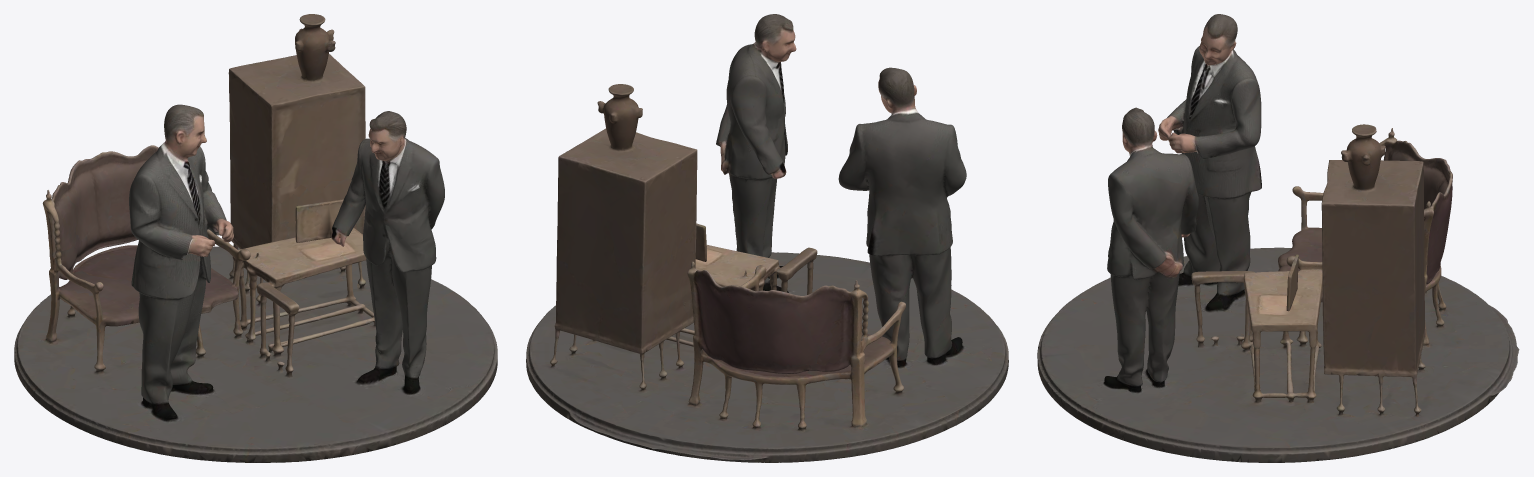
File: hai_co_van_my.glb
The picture shows the model from 3 angles, left to right: view 1: azimuth 30°, elevation 25°; view 2: azimuth 150°, elevation 25°; view 3: azimuth 270°, elevation 25°; orthographic projection.
Bounding box in the file's own units: 1.72 × 1.19 × 1.74.
1 material, 1 textured.
